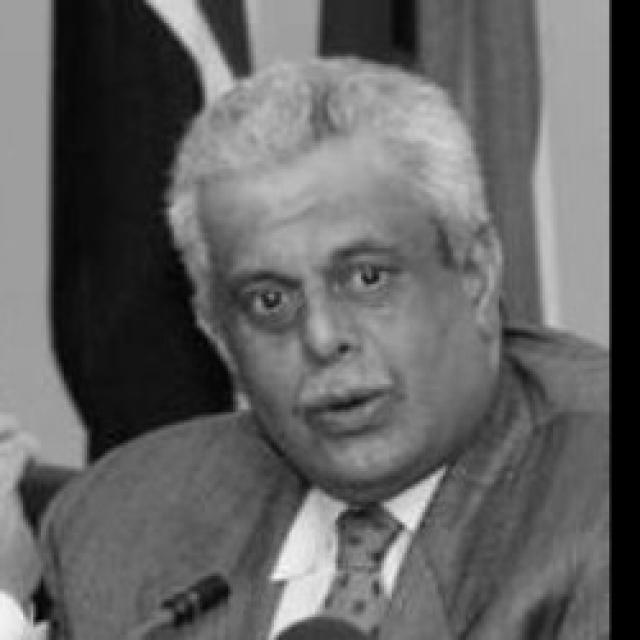real: (198, 136, 452, 485), (227, 253, 412, 315)
